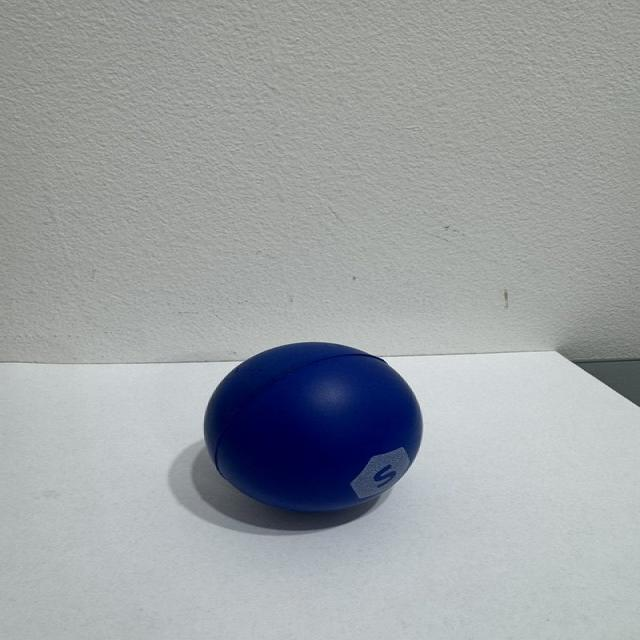blue_ball: (202, 328, 462, 543)
